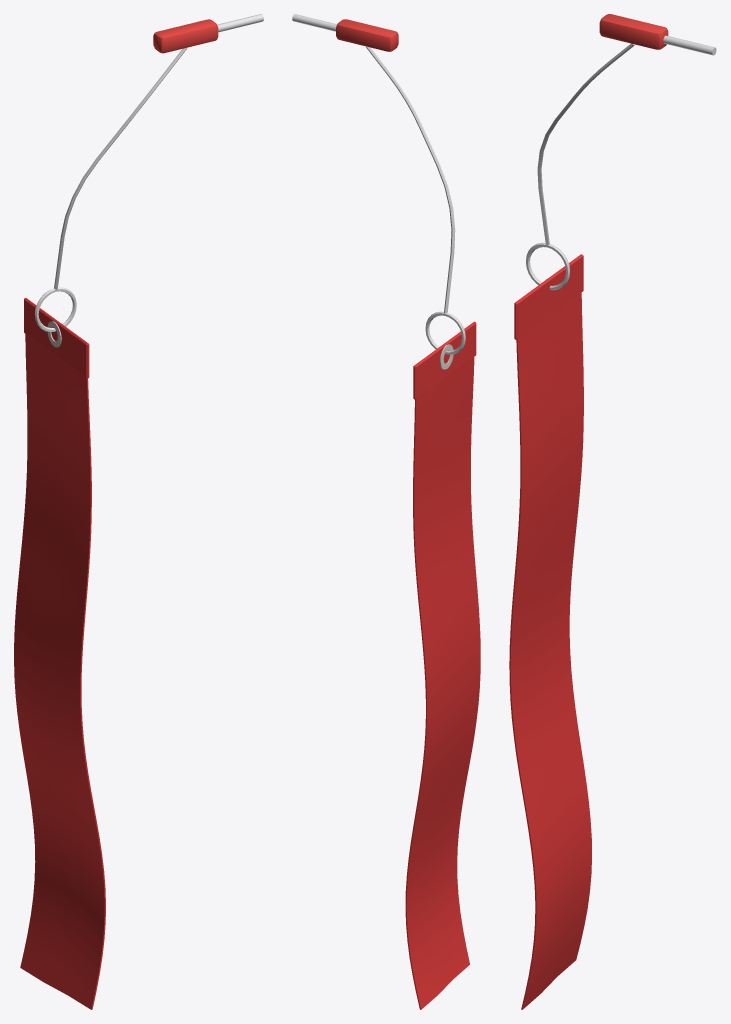
Rendered from rbf_tag.glb.
3 views of the same model, side by side, from view 1: azimuth 30°, elevation 25°; view 2: azimuth 150°, elevation 25°; view 3: azimuth 330°, elevation 25° (orthographic). The views are drawn at different scales.
Visible parts, largest first — view 1: rbf_tag; view 2: rbf_tag; view 3: rbf_tag.
Part boxes in pixels (x1,y1,x2,y2): rbf_tag: (14,14,263,1009); rbf_tag: (292,14,480,1009); rbf_tag: (509,14,716,1009).
Size of the model in its own units: 0.0959 by 0.431 by 0.052.
